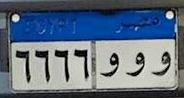6: (13, 47, 33, 83), (52, 47, 71, 83), (72, 47, 91, 82), (34, 46, 51, 82)
waw: (150, 48, 171, 81), (125, 52, 147, 79), (99, 50, 120, 78)
